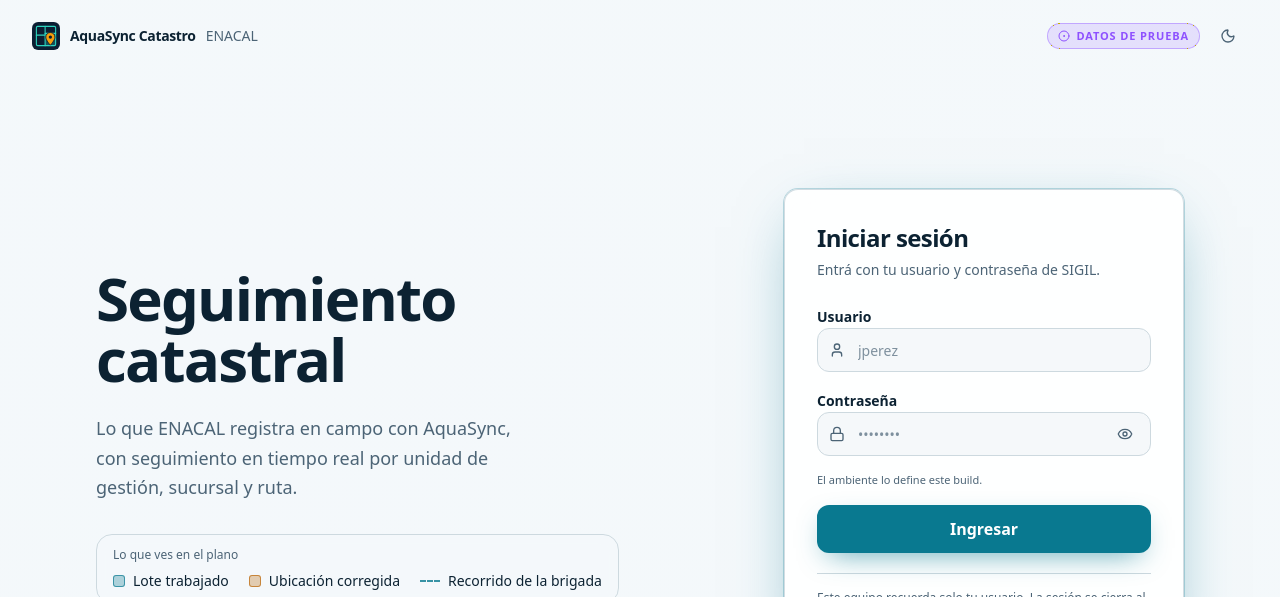
Test: login › shows the dashboard shell after a successful login
Type "jmedina" into the field labelled "Usuario". click: (984, 350)
box: [817, 328, 1151, 372]
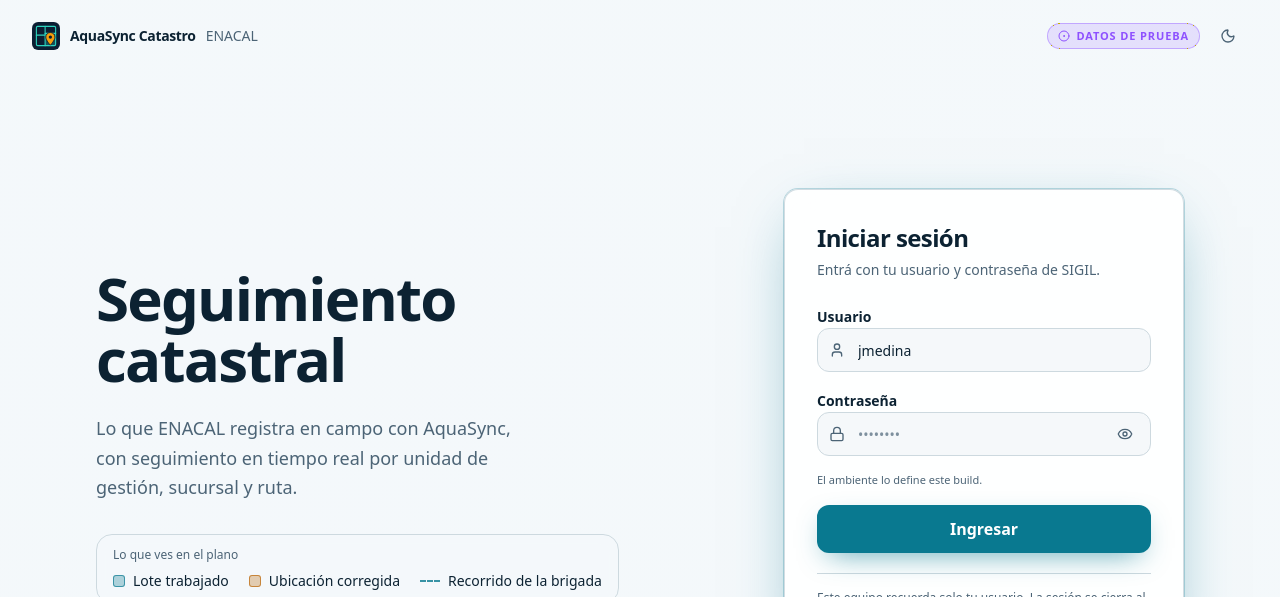
Type "clave" into the password field labelled "Contraseña". click: (984, 434)
box: [817, 412, 1151, 456]
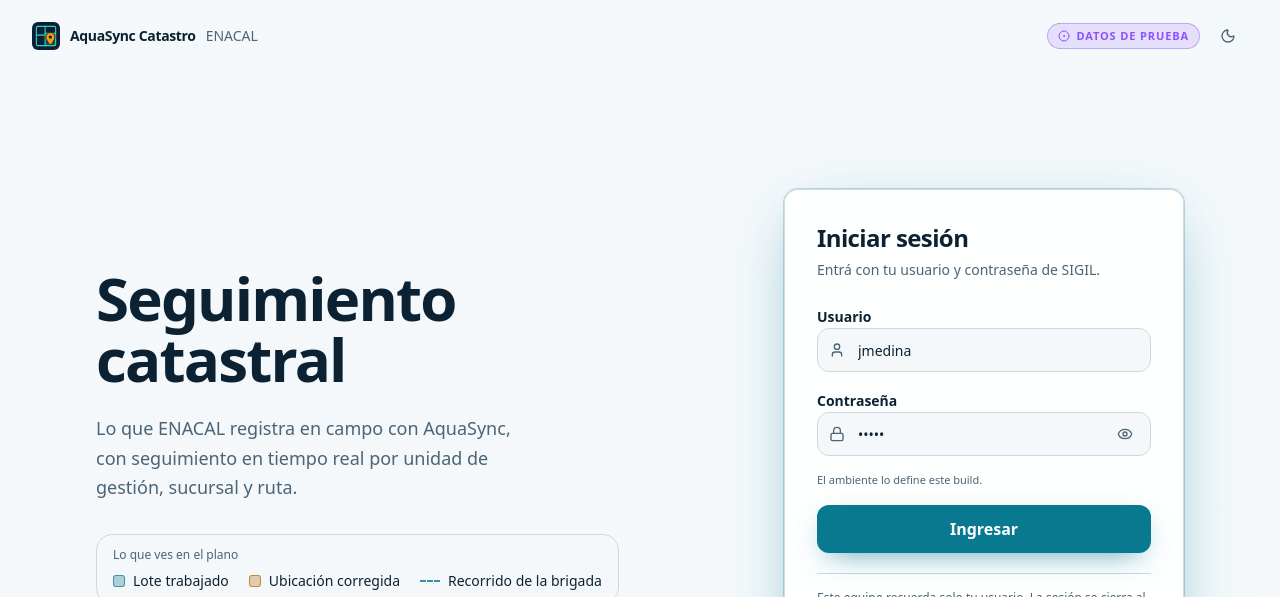
Click the button "Ingresar". click: (984, 528)
box: [817, 504, 1151, 552]
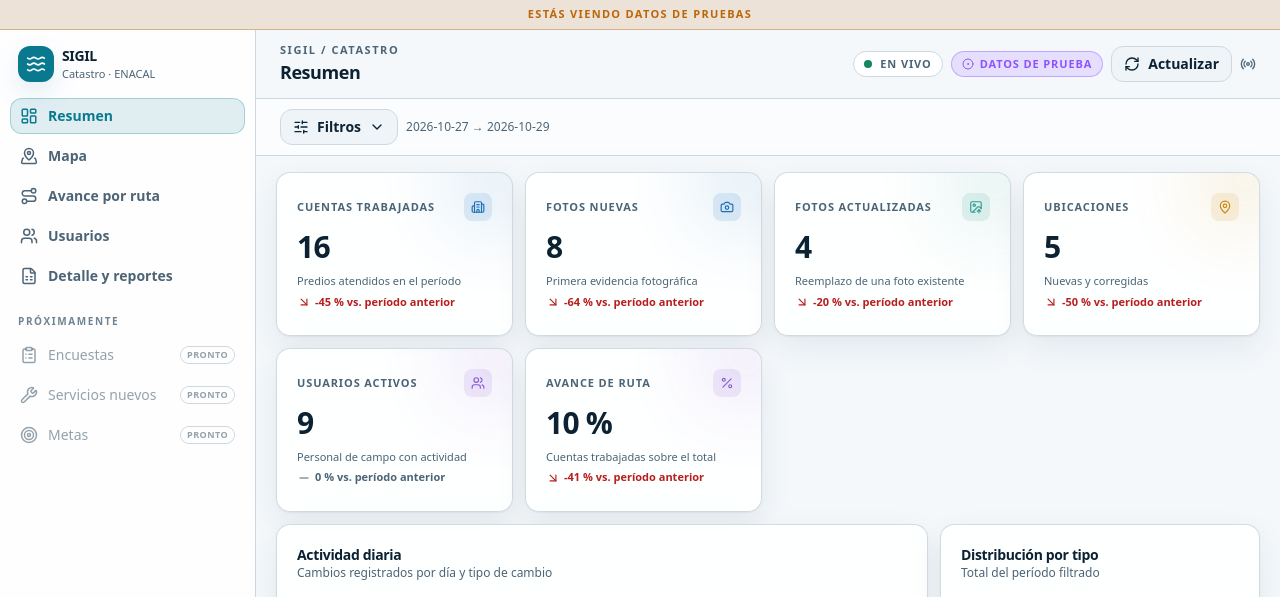
Now the heading "Resumen" is shown, box [280, 60, 360, 84]
Now the text "16" is shown, box [297, 226, 330, 267]
Now the element with test id "live-status-topbar" is shown, box [853, 50, 943, 77]
